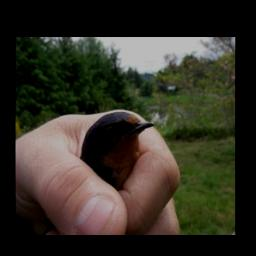Swallow: (78, 109, 156, 191)
